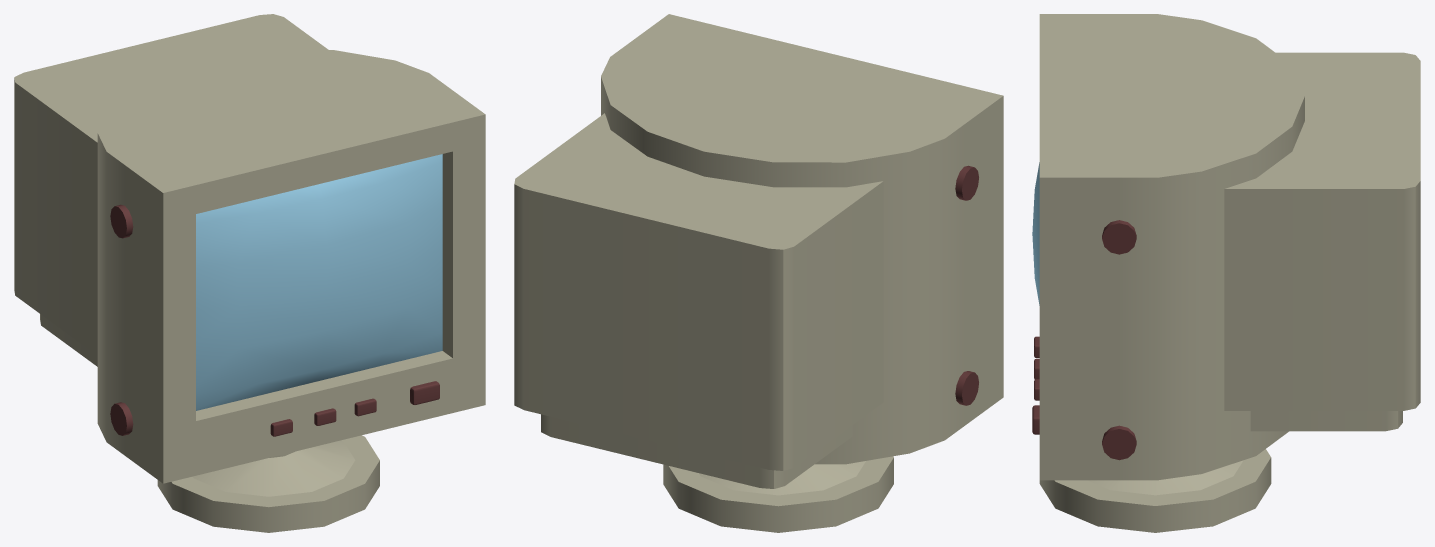
File: monitor.fbx
The picture shows the model from 3 angles, left to right: view 1: azimuth 30°, elevation 25°; view 2: azimuth 150°, elevation 25°; view 3: azimuth 270°, elevation 25°; orthographic projection. The views are drawn at different scales.
Visible parts, largest first — view 1: pCube10, pCube11, pCylinder8, pCylinder11, polySurface5; view 2: pCube11, pCube10, pCylinder8, pCylinder11; view 3: pCube10, pCube11, pCylinder8, pCylinder11.
Part boxes in pixels (<box>): pCube10: <box>97,50,485,483</box>; pCube11: <box>14,14,328,366</box>; pCylinder8: <box>157,435,379,532</box>; pCylinder11: <box>110,204,133,435</box>; polySurface5: <box>410,381,439,404</box>; pCube11: <box>514,113,883,488</box>; pCube10: <box>601,14,1003,464</box>; pCylinder8: <box>663,456,893,532</box>; pCylinder11: <box>955,165,978,405</box>; pCube10: <box>1032,14,1304,480</box>; pCube11: <box>1224,52,1420,431</box>; pCylinder8: <box>1039,449,1271,532</box>; pCylinder11: <box>1102,220,1136,460</box>.
Bounding box in the file's own units: 1.21 × 1.28 × 1.16.
